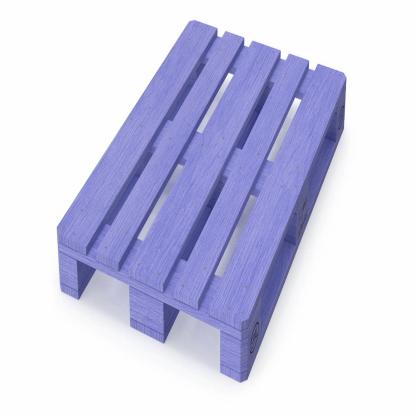BoxFace: (54, 23, 349, 387)
